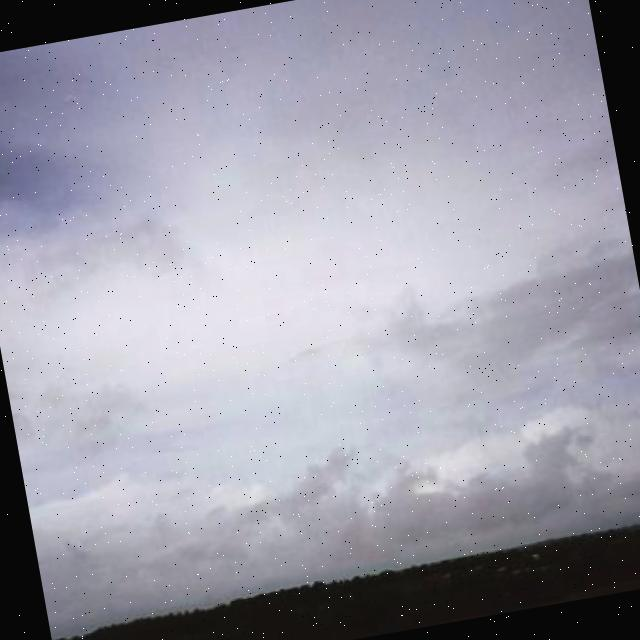Ns: (1, 28, 640, 608)
